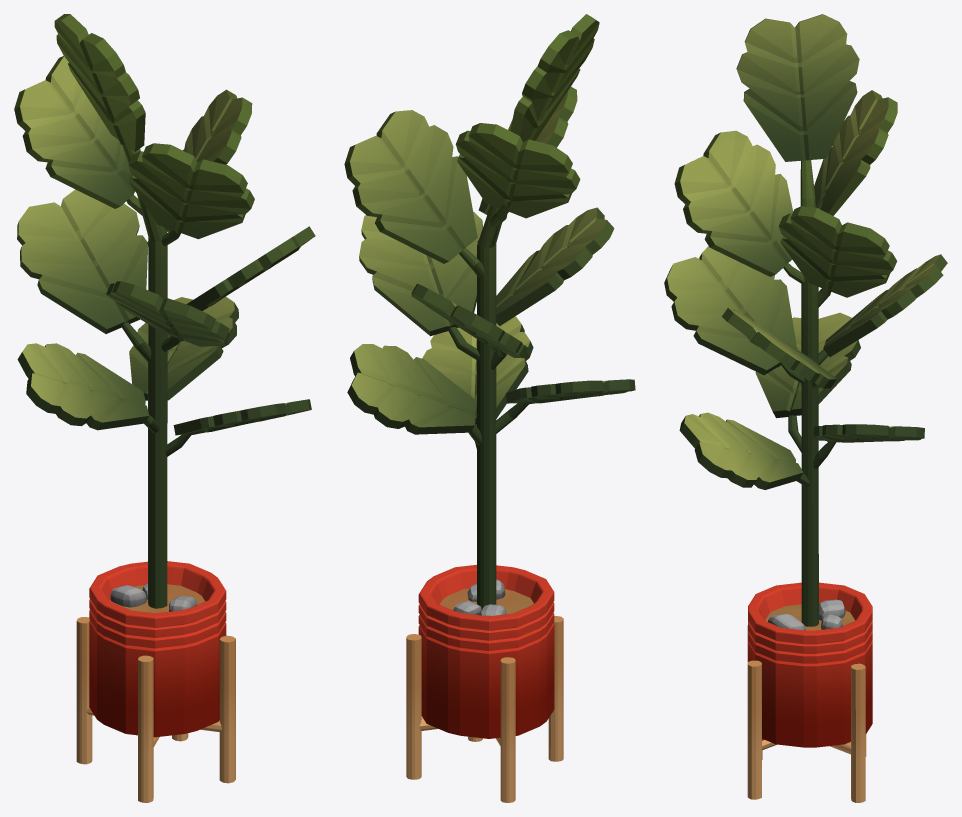
Rendered from fiddle_leaf_fig_tree.fbx.
3 views of the same model, side by side, from view 1: azimuth 30°, elevation 25°; view 2: azimuth 150°, elevation 25°; view 3: azimuth 270°, elevation 25° (orthographic). The views are drawn at different scales.
Parts seen in each view (by area): view 1: fiddle_leaf_fig_tree; view 2: fiddle_leaf_fig_tree; view 3: fiddle_leaf_fig_tree.
Part boxes in pixels (x1=…): fiddle_leaf_fig_tree: x1=14, y1=14, x2=315, y2=802; fiddle_leaf_fig_tree: x1=344, y1=14, x2=635, y2=802; fiddle_leaf_fig_tree: x1=664, y1=14, x2=947, y2=802.
Size of the model in its own units: 95.31 by 252 by 89.26.
